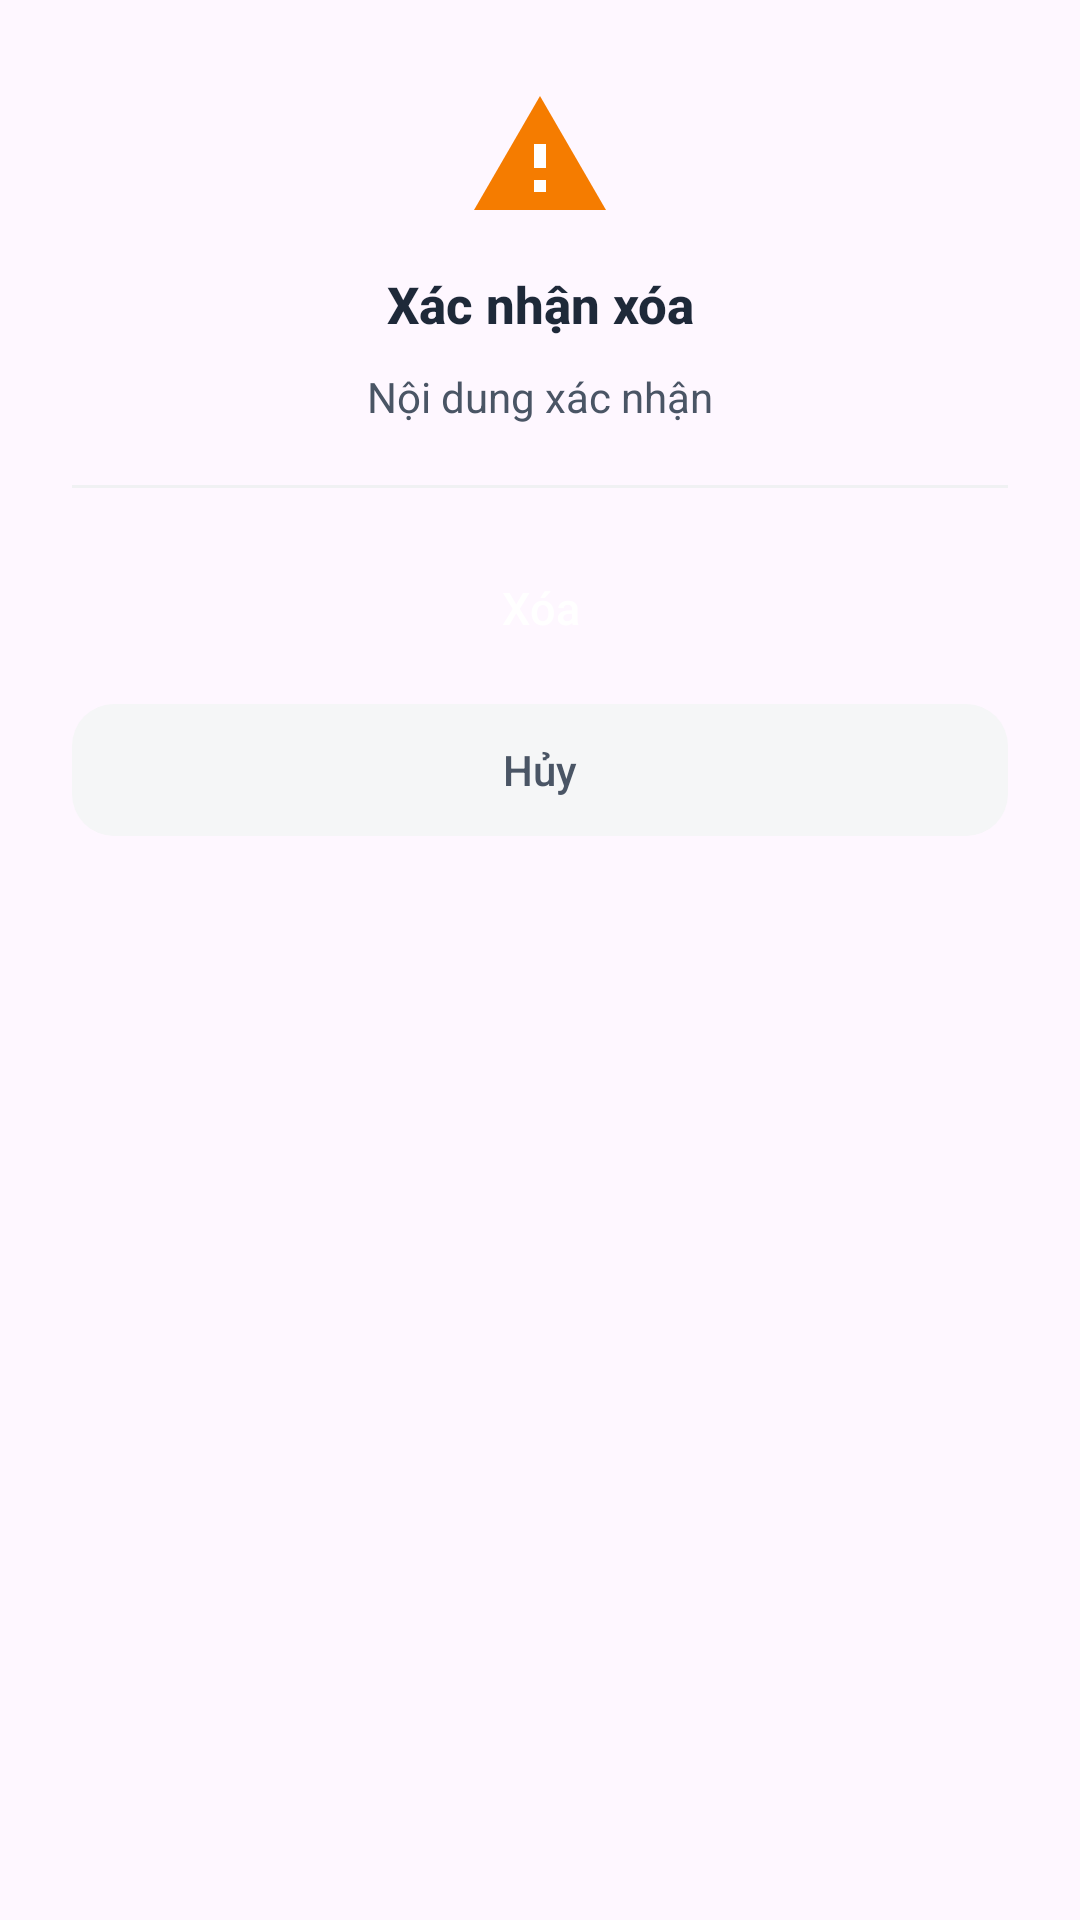

Screen size 1080×1920. Icon name, then its box in pixels as (x1, y1, x2, y2):
budget warning: (474, 96, 606, 210)
